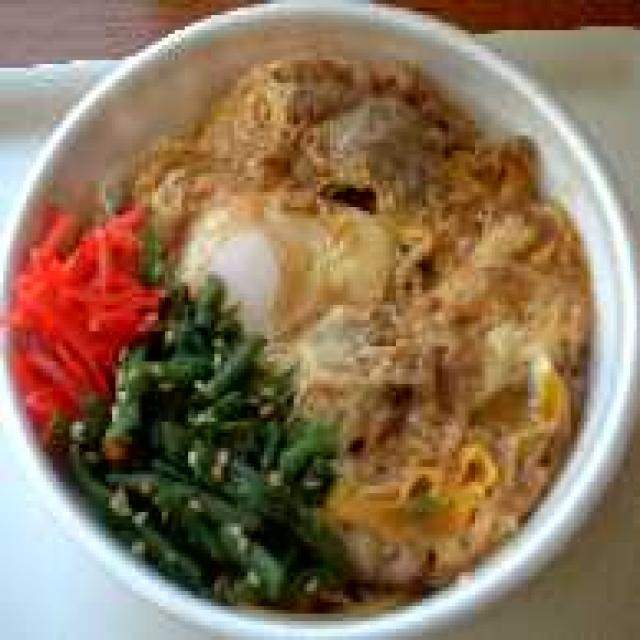米饭主食: (0, 0, 637, 636)
